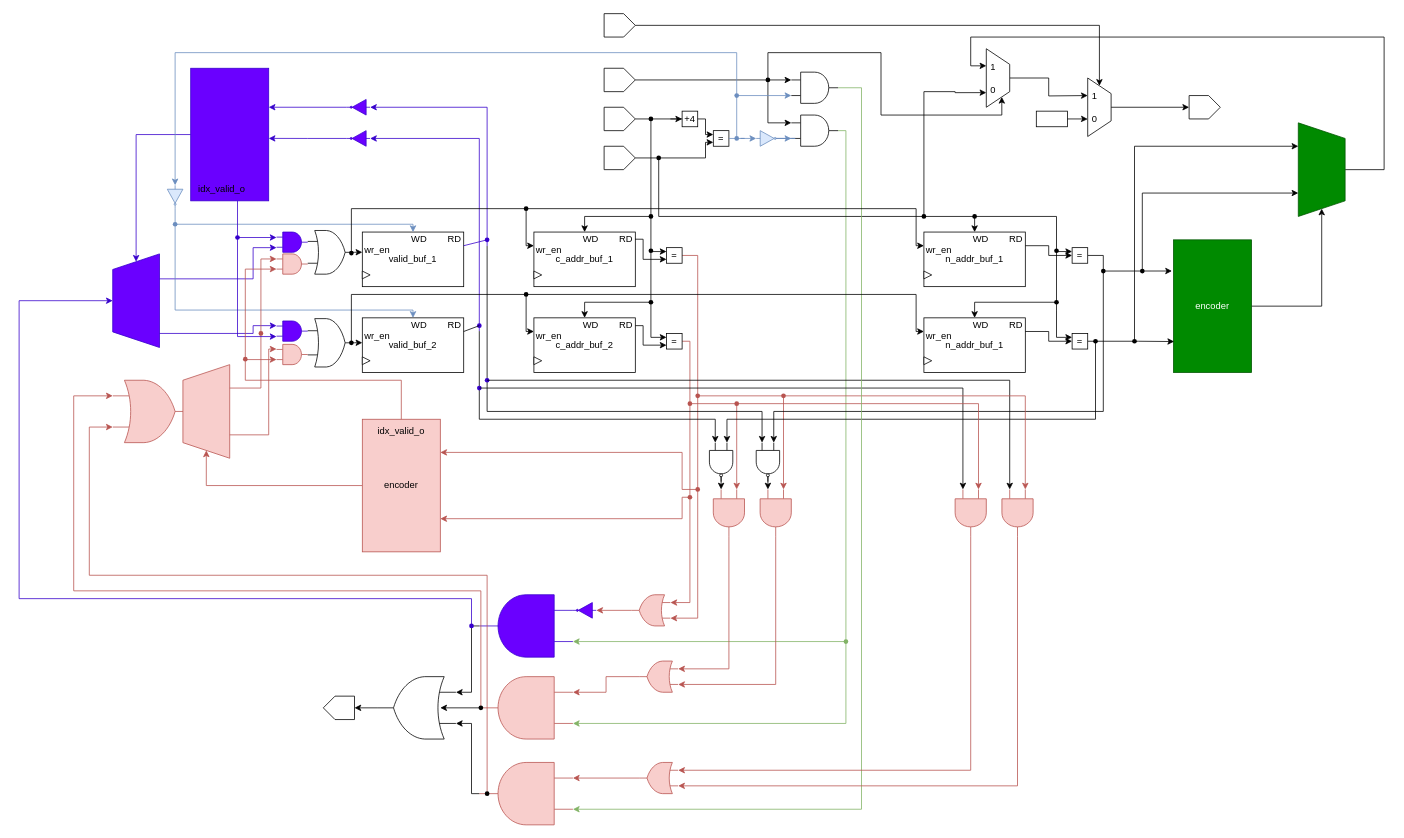
Some shapes in this 1404 by 838 pixel diagram are drawn without their labels. The shapes that lost their labels are listed below. From the top down, each one's box as (x1, y1, x2, y2) in pixels, then its label:
(603, 13, 635, 37): dna_load
(603, 67, 635, 92): is_jump
(603, 106, 635, 131): c_addr_i
(1036, 110, 1068, 127): PC+4
(1188, 95, 1220, 119): pc_o
(190, 67, 269, 201): priority_encoder
(603, 145, 635, 170): n_addr_i
(323, 695, 355, 720): pipeline_clear_o
